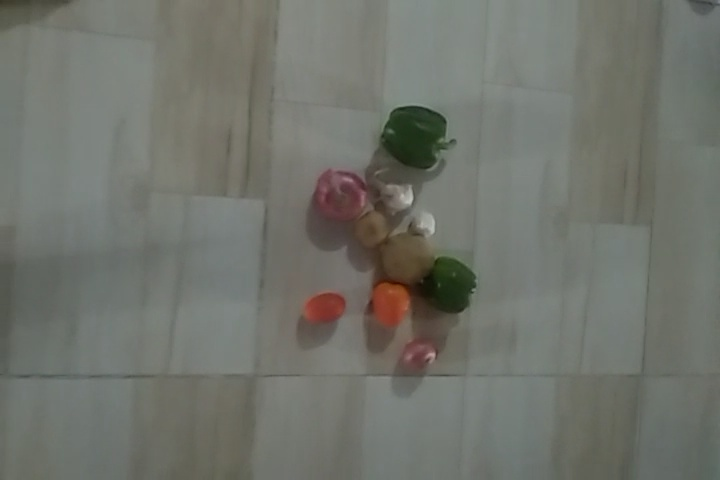capsicum: (381, 106, 451, 172), (427, 256, 478, 316)
garlic: (377, 182, 418, 218), (414, 208, 438, 239)
onion: (312, 169, 364, 219), (405, 339, 439, 375)
potato: (380, 234, 436, 282), (354, 213, 386, 256)
tomato: (370, 283, 411, 334), (308, 292, 348, 328)
